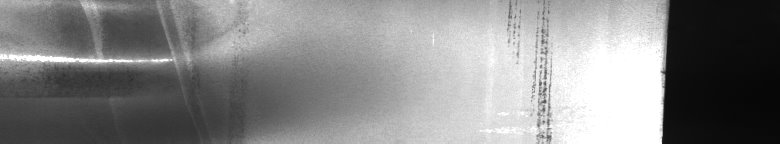ke: (4, 4, 248, 105)
